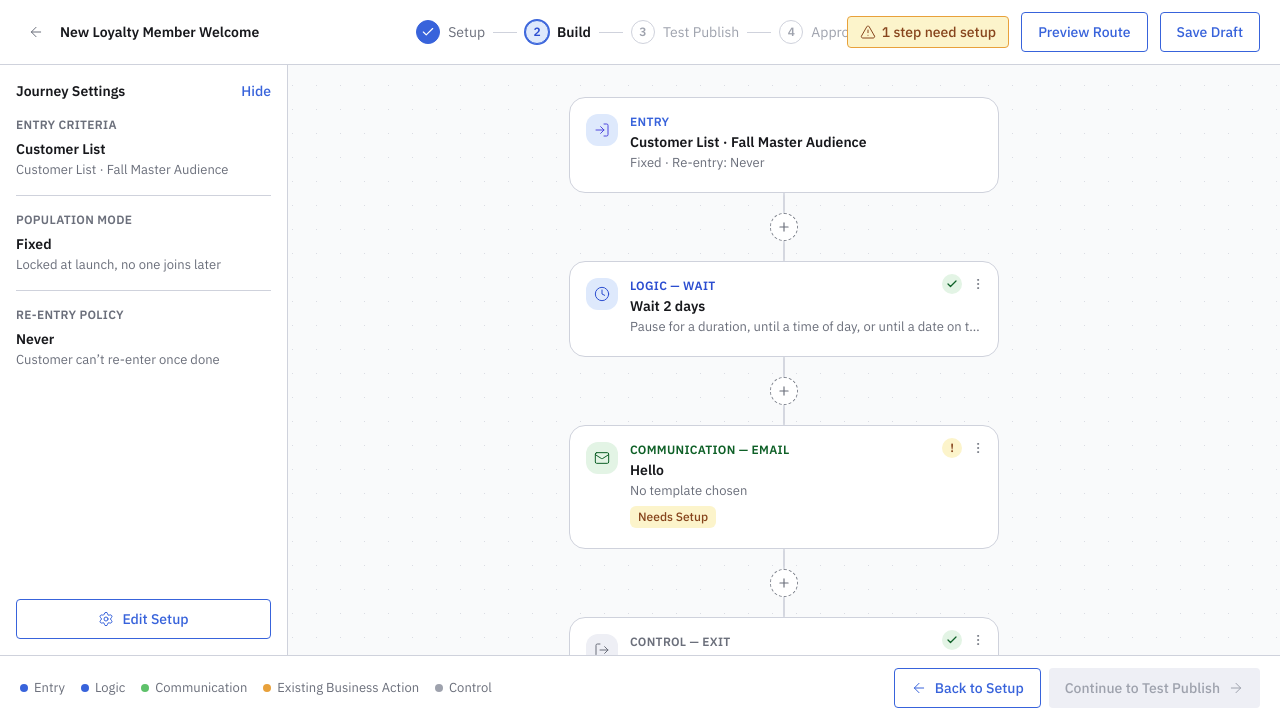
Test case: Back to Setup opens the same pop-up
Step 1. Click the button "Back to Setup" → (967, 688), box x1=894 y1=668 x2=1041 y2=708
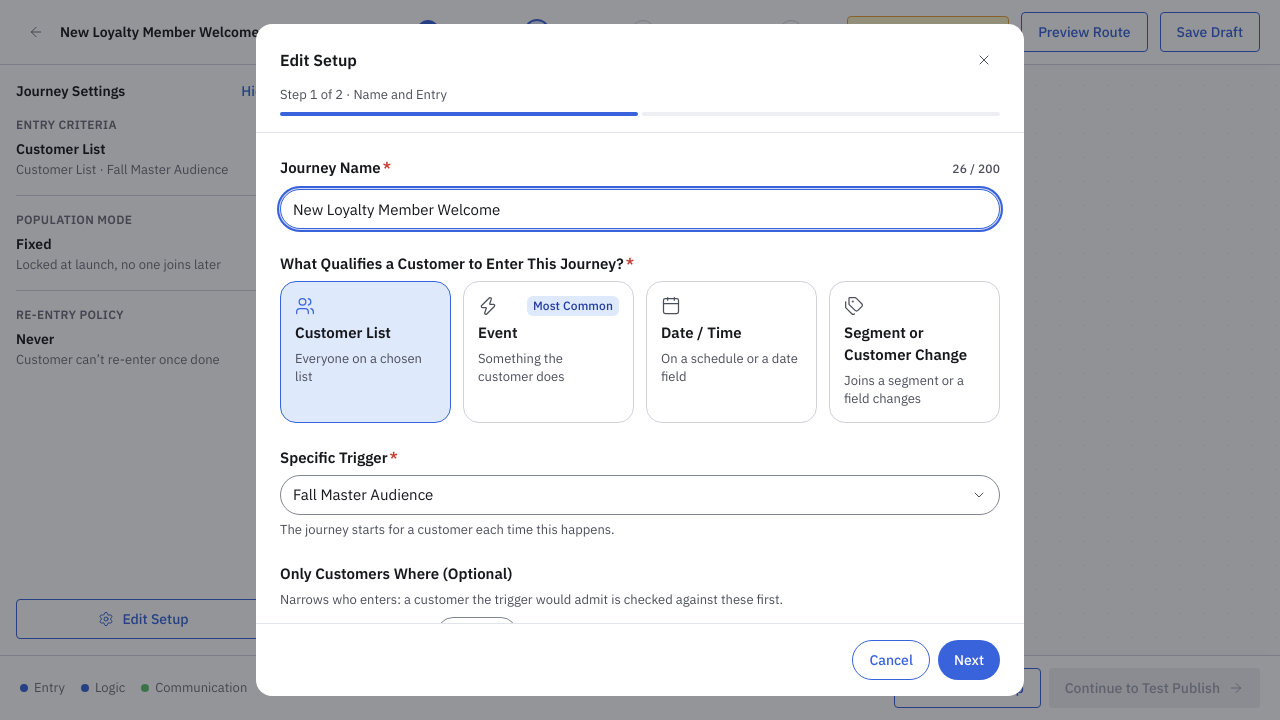
Check: the dialog "Edit Setup" is shown, box x1=256 y1=24 x2=1024 y2=696
